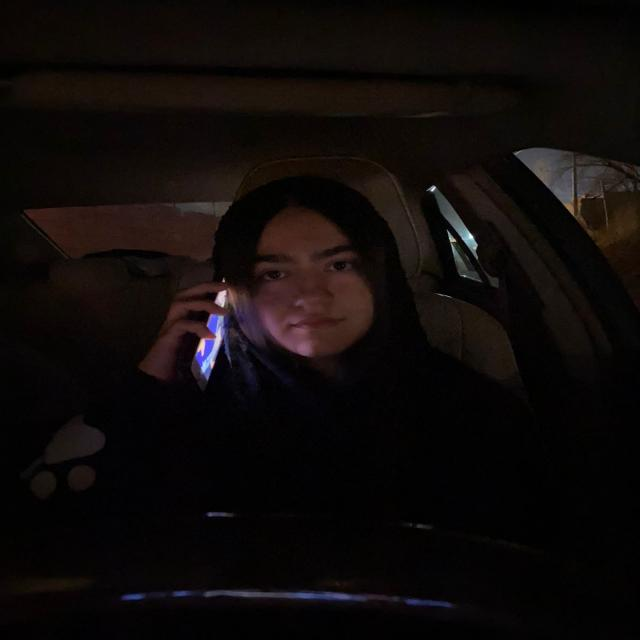mobile: (186, 264, 243, 393)
person: (226, 180, 386, 363)
